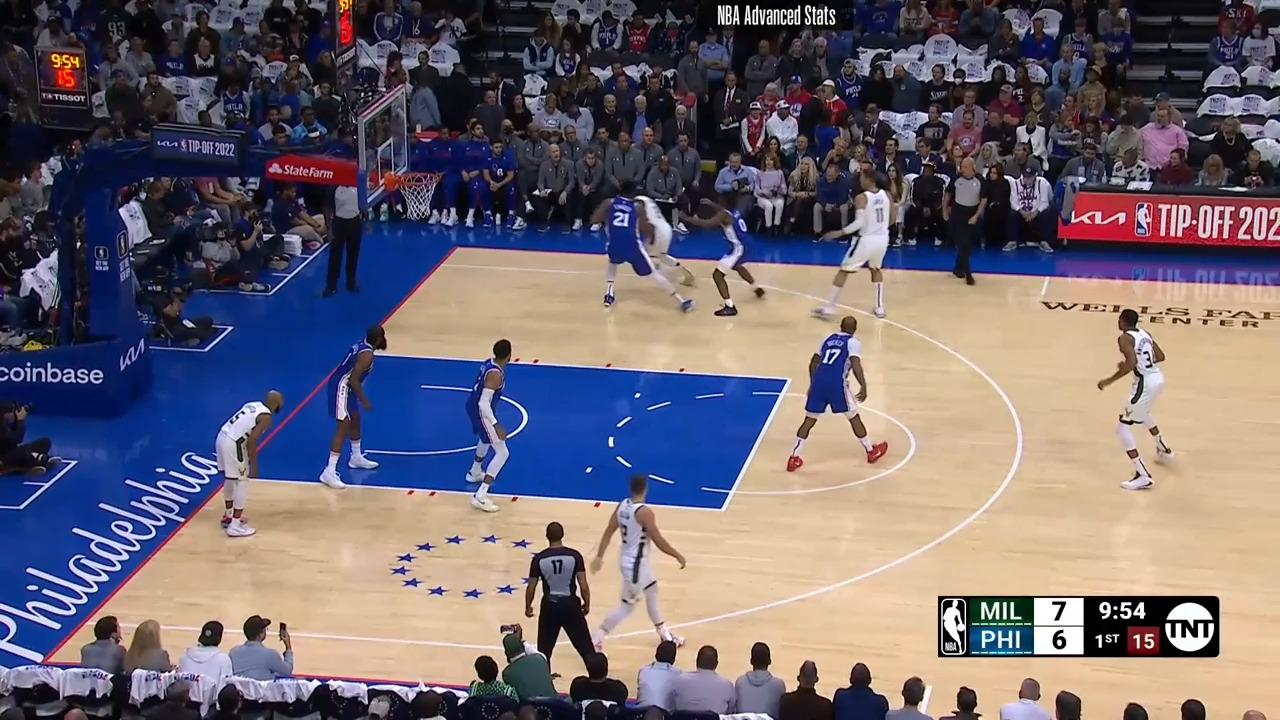net: (382, 166, 442, 221)
player: (584, 470, 687, 653), (784, 313, 887, 475), (1090, 307, 1174, 497), (593, 176, 692, 316), (209, 386, 291, 543), (329, 323, 403, 492), (813, 169, 892, 320), (458, 336, 519, 513), (685, 191, 769, 318), (622, 182, 696, 289)
referee: (519, 522, 610, 685), (943, 156, 993, 288), (315, 179, 364, 301)
